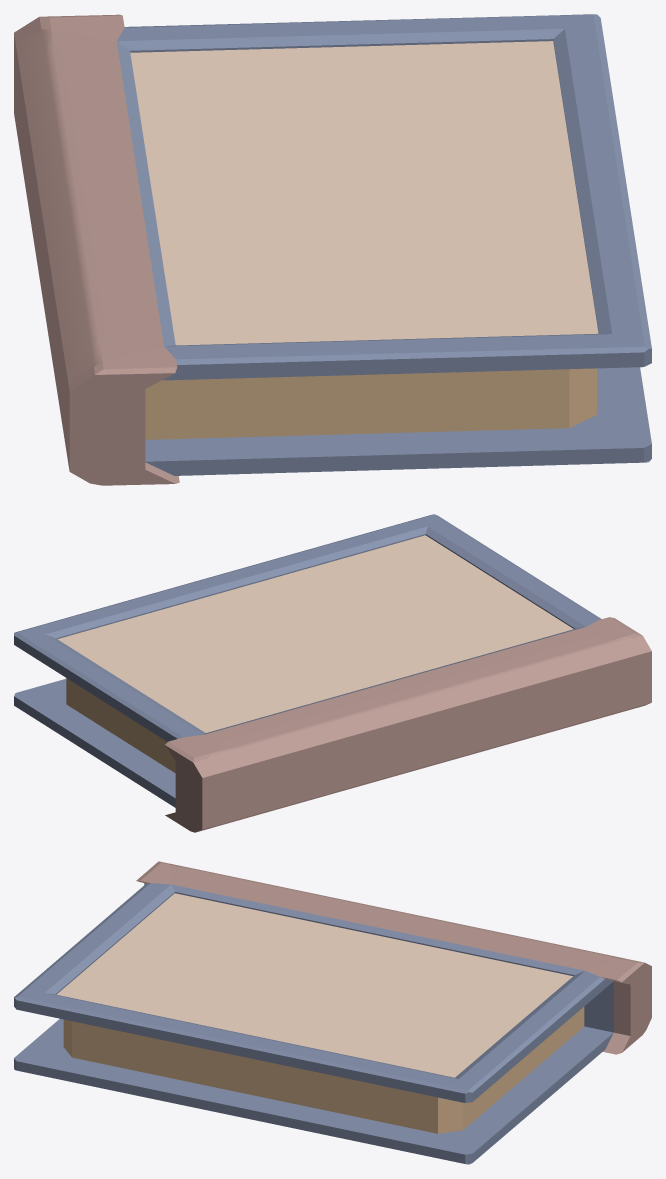
The model's file is PRP_Book.fbx.
3 views of the same model, one above another, from view 1: azimuth 30°, elevation 25°; view 2: azimuth 150°, elevation 25°; view 3: azimuth 270°, elevation 25° (orthographic). The views are drawn at different scales.
Parts seen in each view (by area): view 1: pCube15; view 2: pCube15; view 3: pCube15.
Part boxes in pixels (x1,y1,x2,y2): pCube15: (14, 14, 651, 485); pCube15: (14, 514, 651, 832); pCube15: (14, 861, 651, 1164).
Bounding box in the file's own units: 0.367 × 0.0529 × 0.4152.
